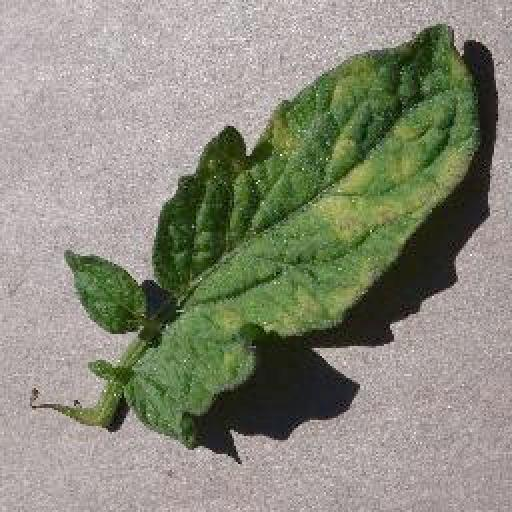disease_tomato: (72, 20, 478, 450)
